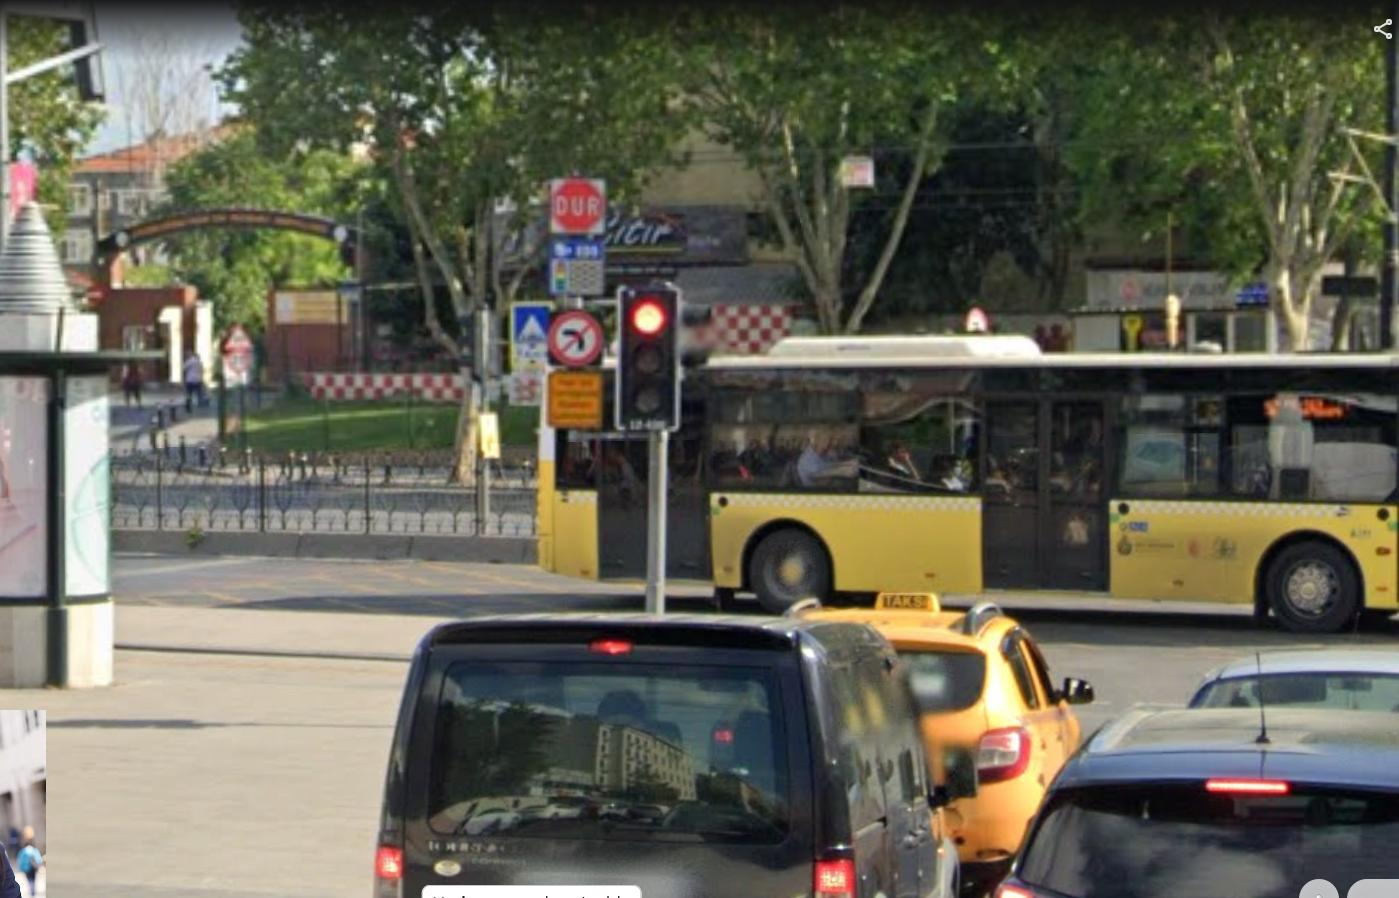leftturnsareforbidden: (550, 313, 604, 363)
redlight: (621, 288, 676, 425)
stop: (551, 175, 605, 232)
